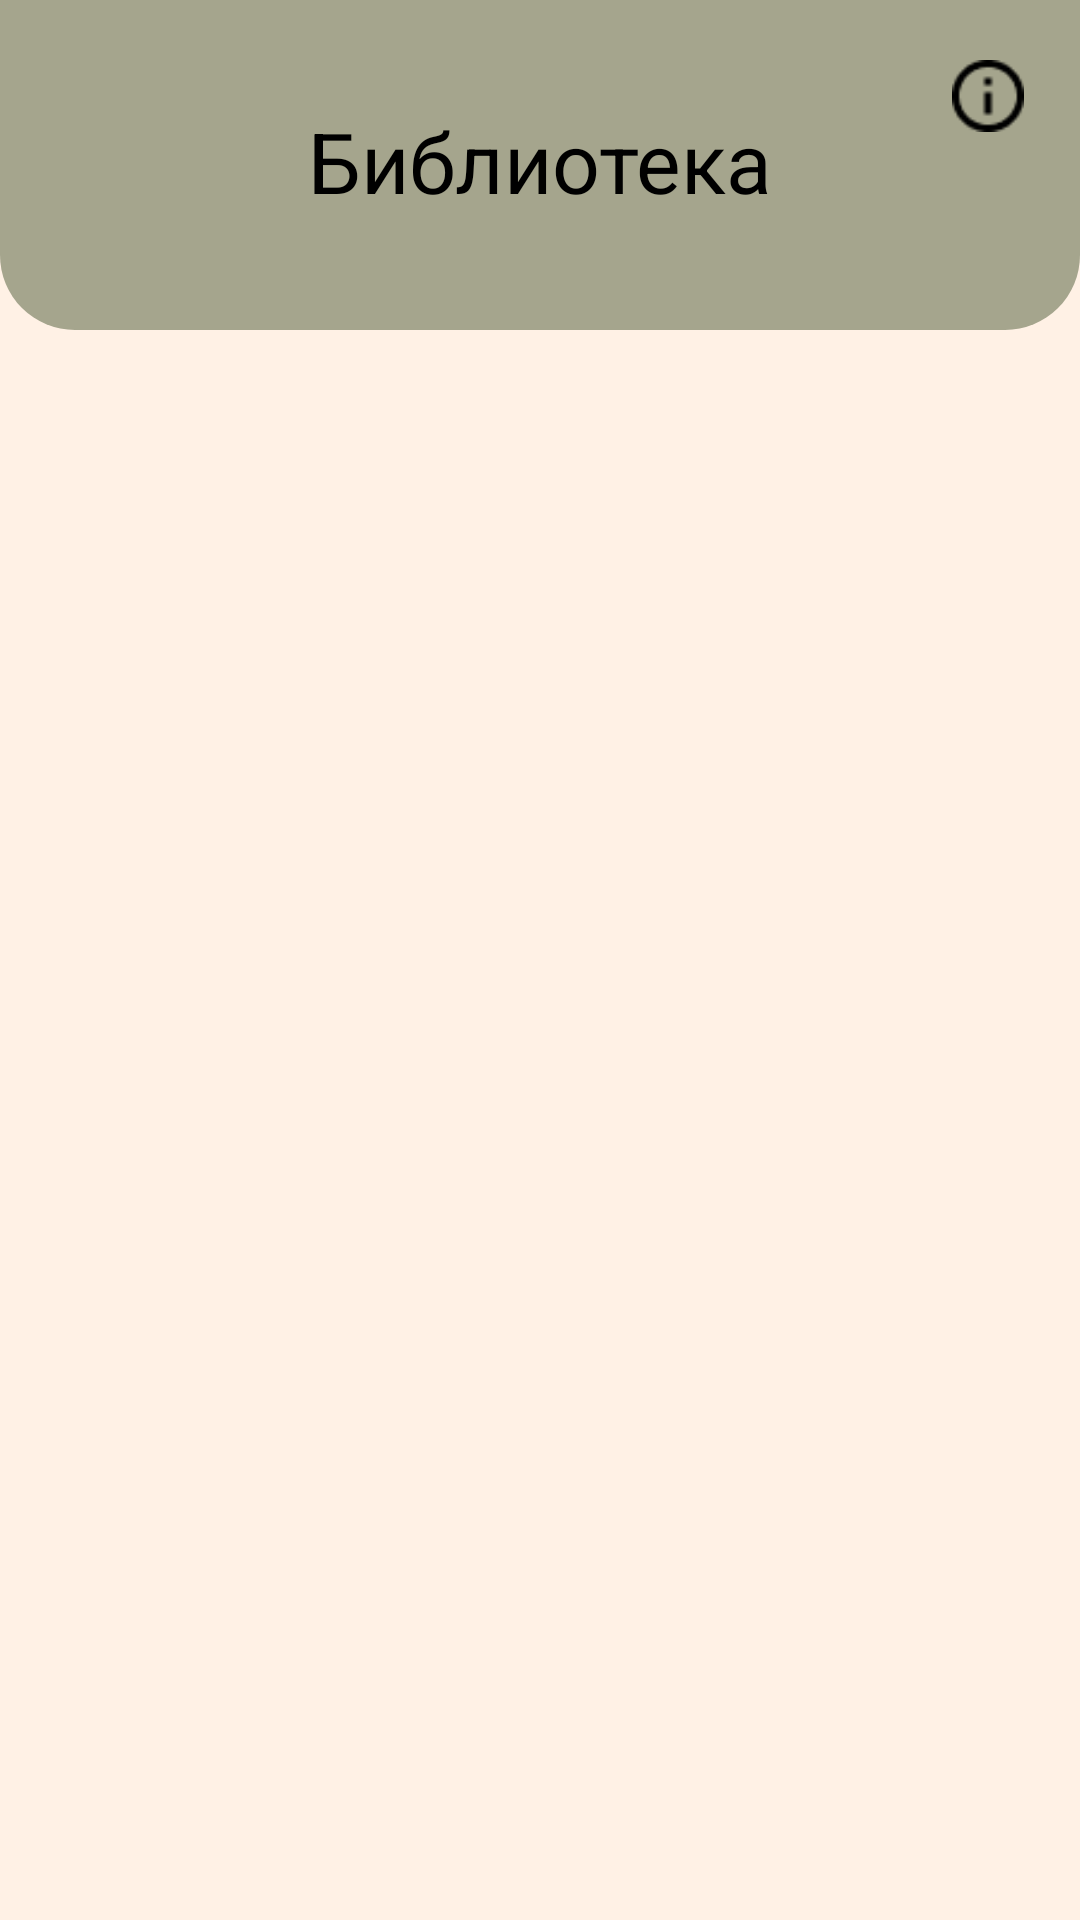

Icon bounding boxes for this 1080×1920 phone screenshot, format {"x1": x1, "y1": y1, "x2": x2, "y2": y2}:
information: {"x1": 952, "y1": 60, "x2": 1024, "y2": 132}
